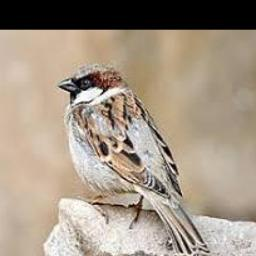Sparrow: (56, 62, 210, 256)
